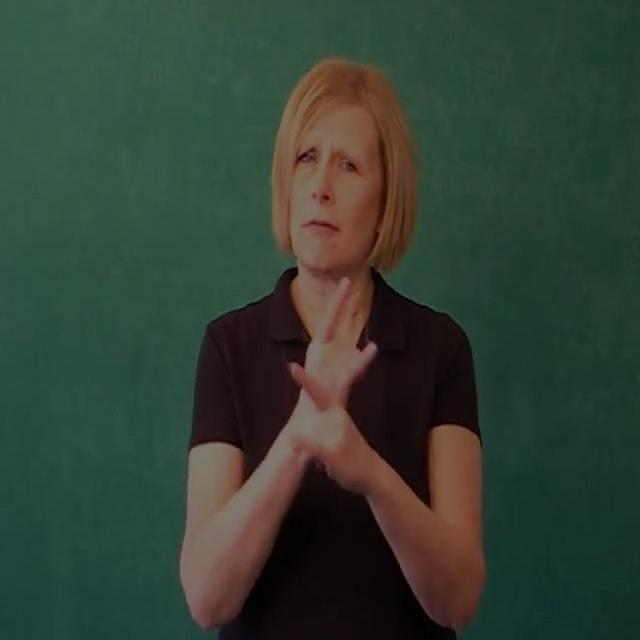alcohol: (284, 272, 378, 506)
